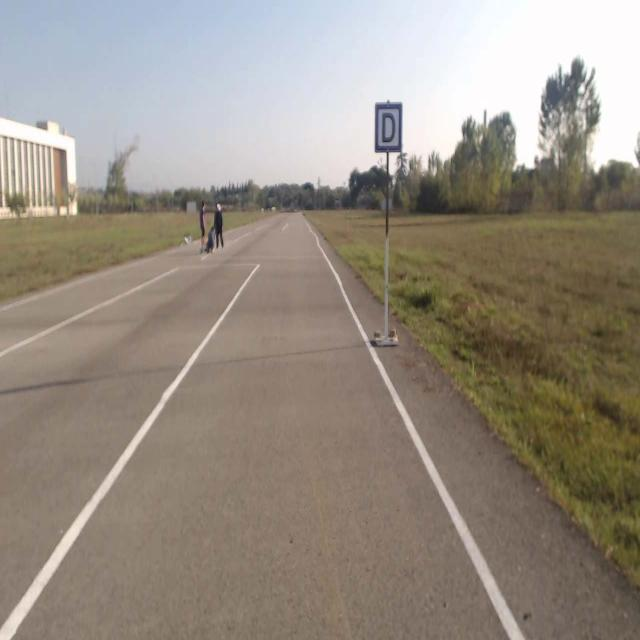durak: (375, 102, 402, 153)
